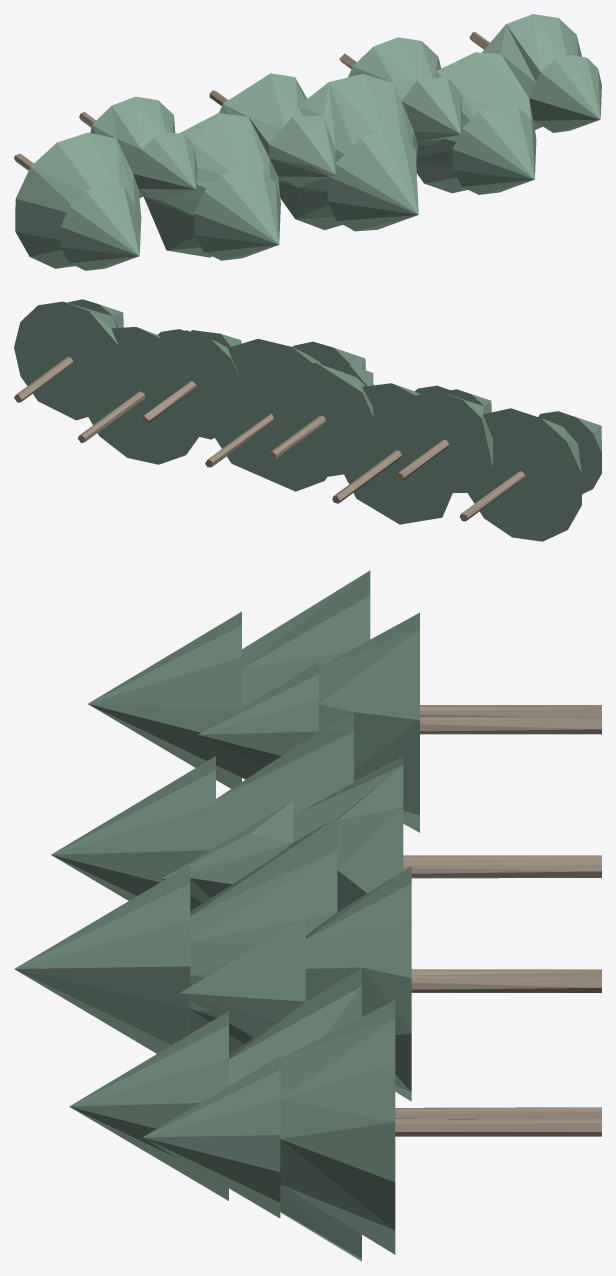
Rendered from r-126-pitch-pine-treeline.lod1.glb.
3 renders of one model, top to bottom at view 1: azimuth 30°, elevation 25°; view 2: azimuth 150°, elevation 25°; view 3: azimuth 270°, elevation 25°, orthographic. The views are drawn at different scales.
Parts seen in each view (by area): view 1: crowns, trunks; view 2: crowns, trunks; view 3: crowns, trunks.
Part boxes in pixels (x1,y1,x2,y2): crowns: (15,14,601,270); trunks: (14,32,489,170); crowns: (14,299,601,541); trunks: (14,357,525,521); crowns: (14,570,419,1261); trunks: (395,705,601,1136).
Bounding box in the file's own units: 35312 × 9558 × 16000.
